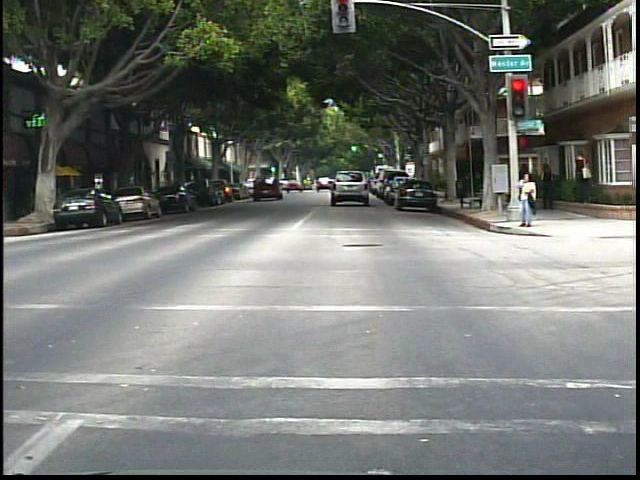person: (513, 168, 540, 229), (569, 148, 595, 205), (539, 158, 562, 216)
